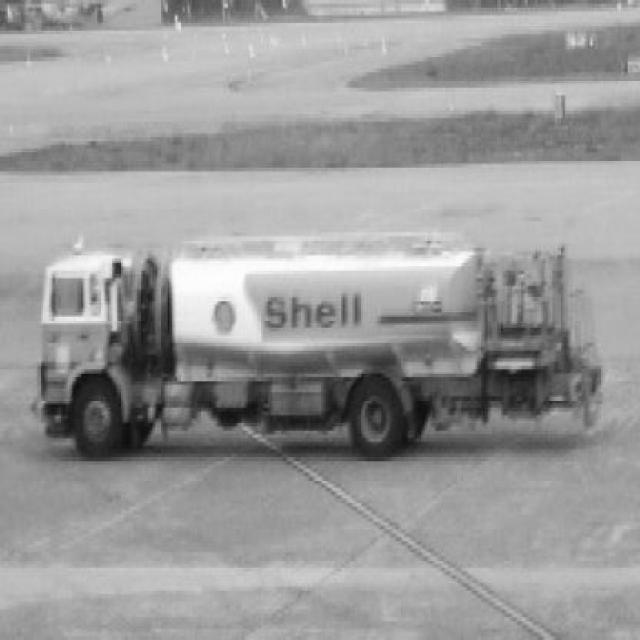Box Truck: (41, 230, 609, 460)
